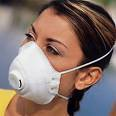n95: (5, 37, 67, 108)
